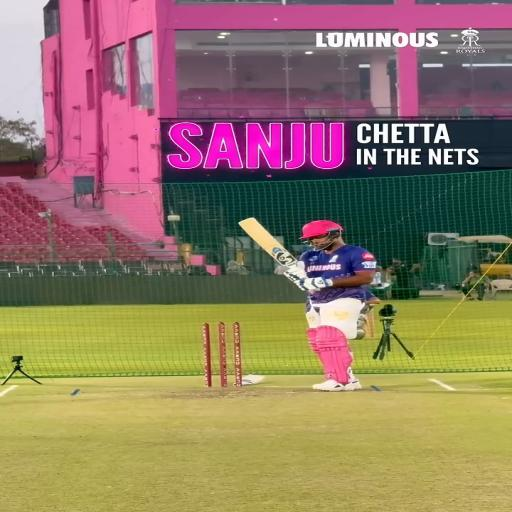Cricket bat: (240, 218, 297, 266)
